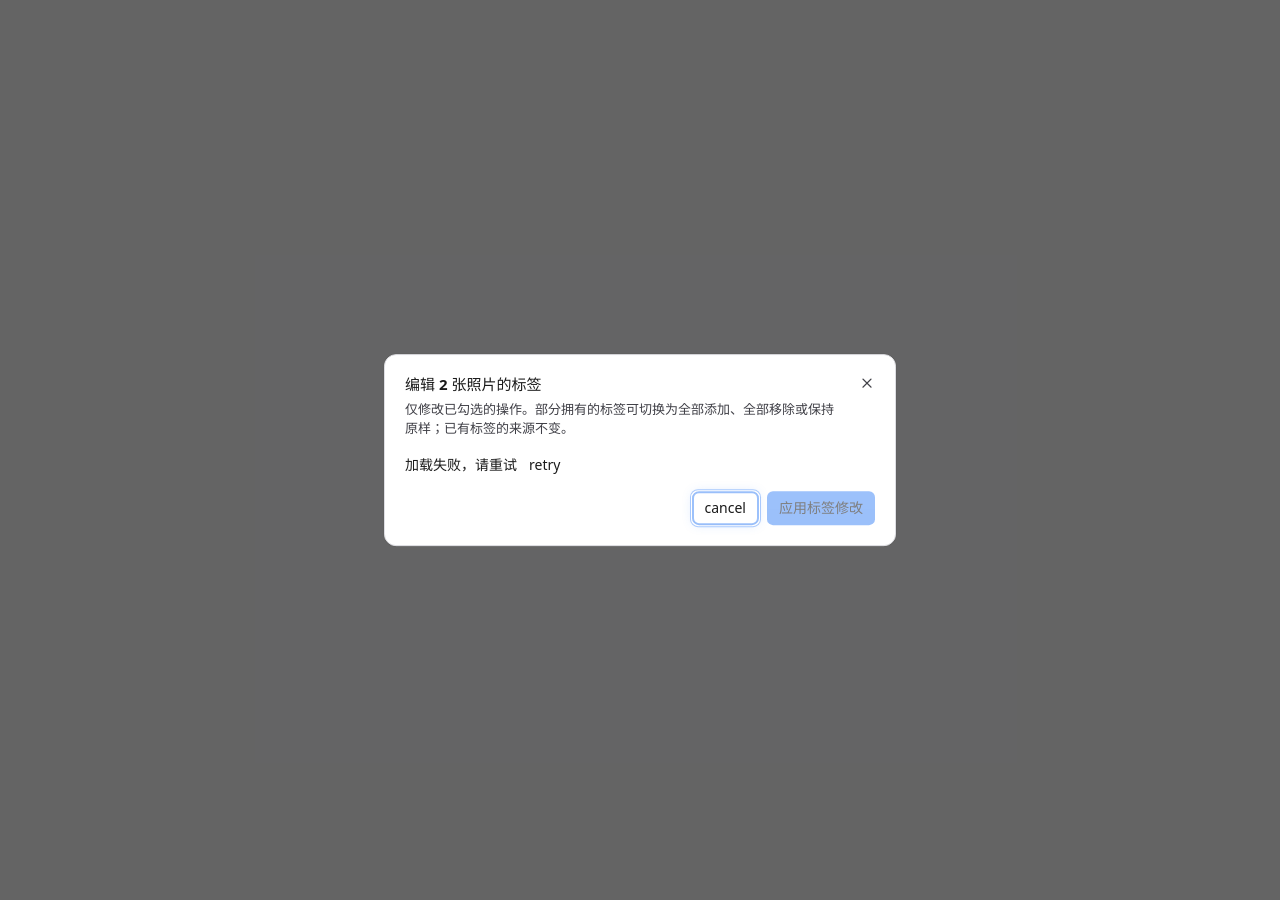
it: offers retry for a failed ownership request
Expected: the message "加载失败，请重试" is shown, top-left (405, 455), bottom-right (517, 475)
Click the button "retry" at (545, 465), box top-left (529, 455), bottom-right (560, 475)
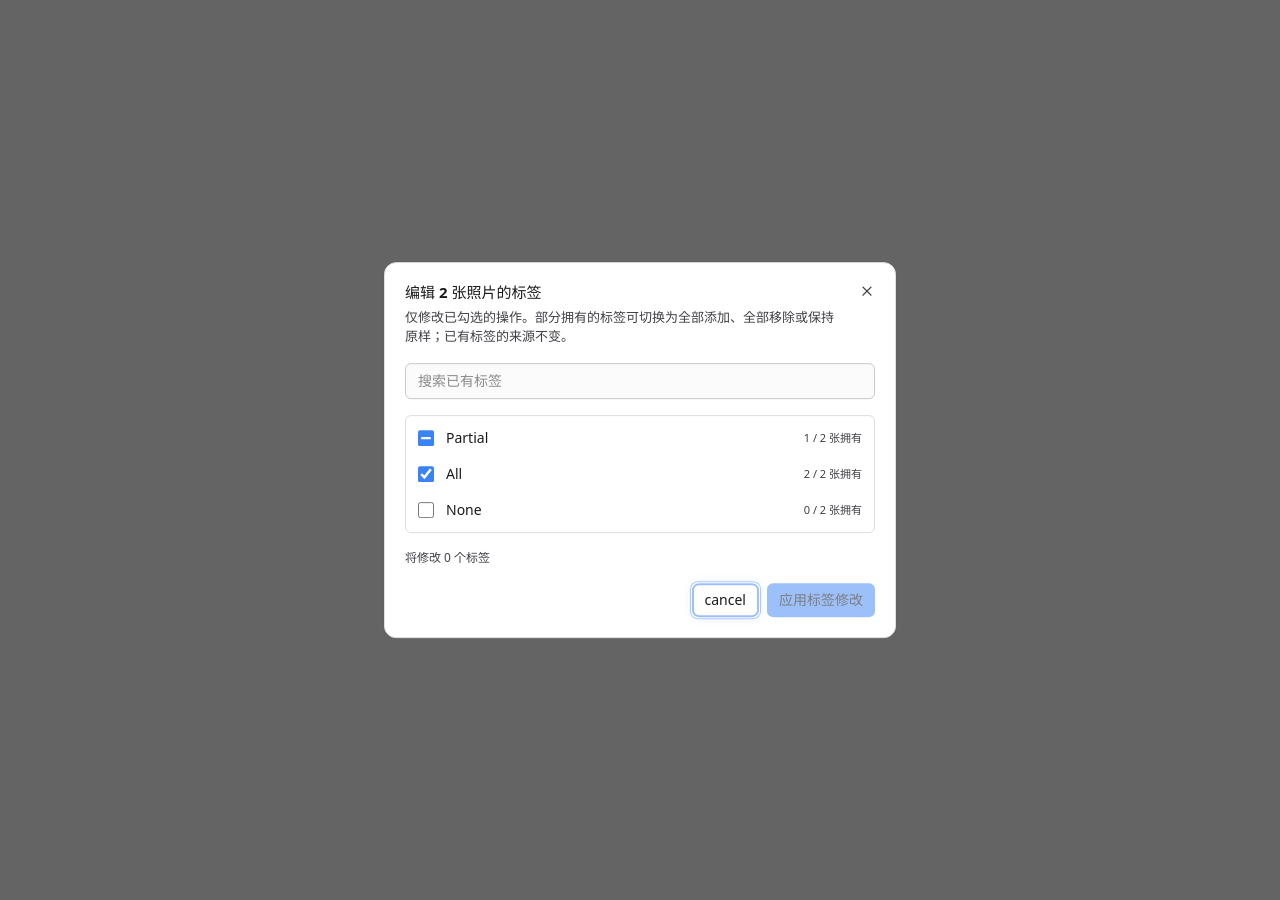
Result: the checkbox labelled "Partial" is shown at top-left (418, 430), bottom-right (434, 446)
